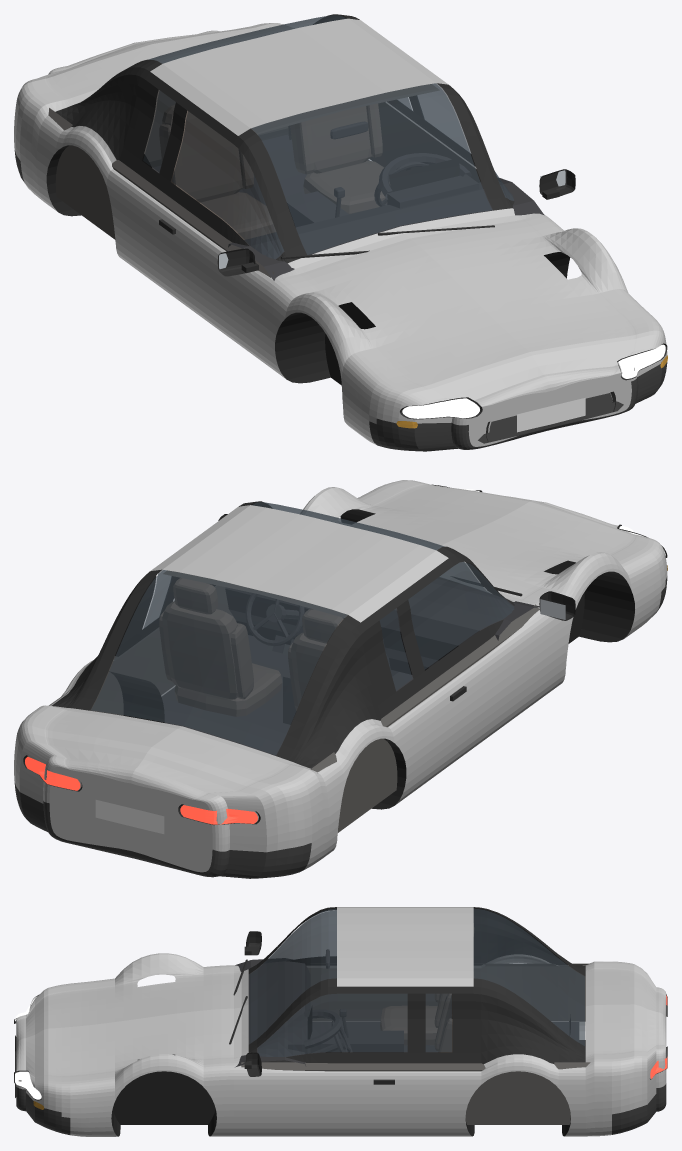
File: car_stiletto.fbx
3 views of the same model, one above another, from view 1: azimuth 30°, elevation 25°; view 2: azimuth 150°, elevation 25°; view 3: azimuth 270°, elevation 25° (orthographic). The views are drawn at different scales.
Parts seen in each view (by area): view 1: stiletto__hood, stiletto__glass, stiletto__roof, stiletto__seats, stiletto__interior, stiletto__pillars, stiletto__cabin, stiletto__trunk, stiletto__doorR, stiletto__fenderFR, stiletto__quarterR, stiletto__wells (+10 smaller); view 2: stiletto__glass, stiletto__hood, stiletto__roof, stiletto__trunk, stiletto__pillars, stiletto__interior, stiletto__seats, stiletto__quarterR, stiletto__rearPanel, stiletto__doorR, stiletto__cabin, stiletto__wells (+7 smaller); view 3: stiletto__glass, stiletto__hood, stiletto__cabin, stiletto__pillars, stiletto__doorL, stiletto__roof, stiletto__quarterL, stiletto__trunk, stiletto__interior, stiletto__fenderFL, stiletto__wells, stiletto__seals (+7 smaller).
Boxes of the visible parts, x1,y1,x2,y2 form: stiletto__hood: (278,215,653,406); stiletto__glass: (143,15,513,258); stiletto__roof: (150,18,448,135); stiletto__seats: (159,103,389,239); stiletto__interior: (152,121,544,280); stiletto__pillars: (56,14,514,263); stiletto__cabin: (48,84,480,277); stiletto__trunk: (27,23,541,279); stiletto__doorR: (140,195,265,361); stiletto__fenderFR: (254,275,452,444); stiletto__quarterR: (14,81,149,277); stiletto__wells: (46,125,570,385); stiletto__glass: (91,502,513,755); stiletto__hood: (305,480,653,603); stiletto__roof: (150,505,448,622); stiletto__trunk: (27,574,539,805); stiletto__pillars: (56,501,514,768); stiletto__interior: (161,579,539,755); stiletto__seats: (159,578,343,716); stiletto__quarterR: (221,701,432,869); stiletto__rearPanel: (43,757,229,872); stiletto__doorR: (423,613,546,783); stiletto__cabin: (51,570,539,832); stiletto__wells: (109,509,634,809); stiletto__glass: (249,908,584,1056); stiletto__hood: (16,954,233,1083); stiletto__cabin: (241,963,590,1124); stiletto__pillars: (248,907,585,1062); stiletto__doorL: (248,1068,425,1136); stiletto__roof: (337,907,473,986); stiletto__quarterL: (425,1051,656,1136); stiletto__trunk: (234,961,666,1065); stiletto__interior: (235,949,579,1067); stiletto__fenderFL: (26,1054,248,1136); stiletto__wells: (111,1014,570,1136); stiletto__seals: (261,950,585,1063).
Bounding box in the file's own units: 2.23 × 1.15 × 4.62.
